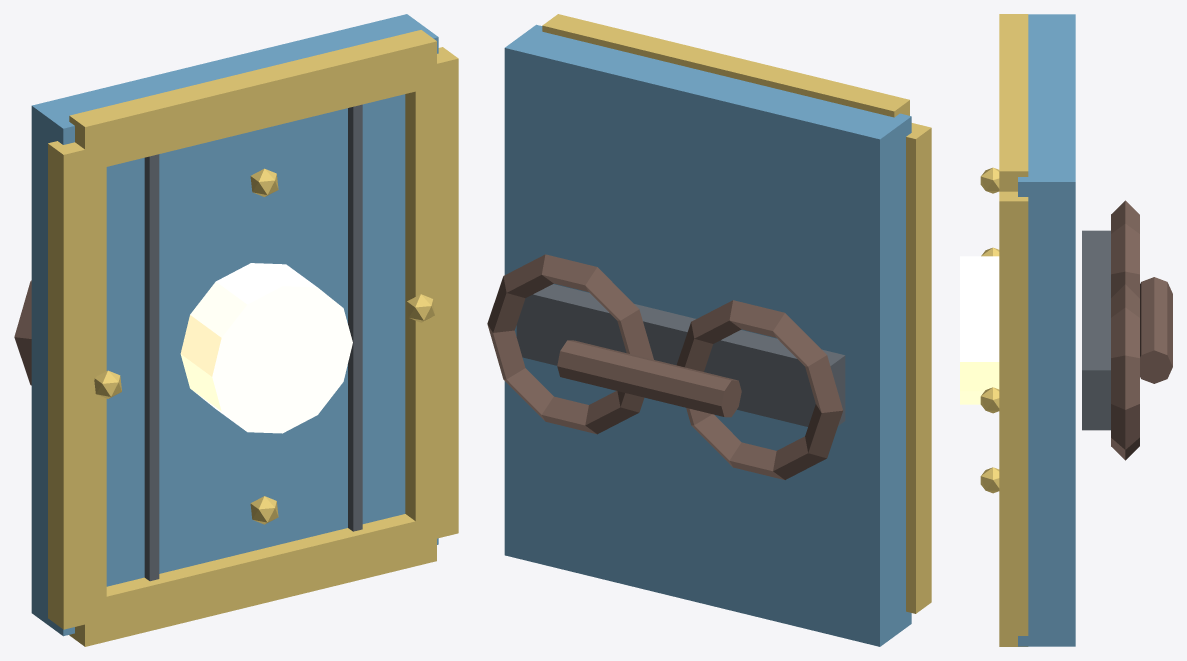
File: colored_square_shield.glb
3 views of the same model, side by side, from view 1: azimuth 30°, elevation 25°; view 2: azimuth 150°, elevation 25°; view 3: azimuth 270°, elevation 25° (orthographic). The views are drawn at different scales.
Visible parts, largest first — view 1: ShieldBody.007, EdgeBandX_-0.001, EdgeBandX_0.001, CentralBoss.007, EdgeBandZ_0.001, EdgeBandZ_-0.001, BoardSeam_-0.001, BoardSeam_0.001, BackStrap_-0.007, Rivet_2.010; view 2: ShieldBody.007, BackReinforcement.007, EdgeBandX_-0.001, BackStrap_0.007, BackStrap_-0.007, EdgeBandZ_0.001, HandGrip.007; view 3: ShieldBody.007, EdgeBandX_0.001, BackReinforcement.007, CentralBoss.007, EdgeBandZ_0.001, BackStrap_0.007, HandGrip.007, BackStrap_-0.007, Rivet_2.010, Rivet_3.010, Rivet_1.032.
Part boxes in pixels (x1=…): ShieldBody.007: x1=31, y1=14, x2=438, y2=636; EdgeBandX_-0.001: x1=48, y1=141, x2=106, y2=629; EdgeBandX_0.001: x1=405, y1=47, x2=458, y2=543; CentralBoss.007: x1=180, y1=263, x2=352, y2=433; EdgeBandZ_0.001: x1=69, y1=30, x2=436, y2=171; EdgeBandZ_-0.001: x1=69, y1=514, x2=436, y2=646; BoardSeam_-0.001: x1=144, y1=154, x2=159, y2=581; BoardSeam_0.001: x1=348, y1=104, x2=362, y2=531; BackStrap_-0.007: x1=14, y1=280, x2=31, y2=385; Rivet_2.010: x1=250, y1=496, x2=278, y2=524; ShieldBody.007: x1=504, y1=24, x2=911, y2=646; BackReinforcement.007: x1=516, y1=284, x2=845, y2=426; EdgeBandX_-0.001: x1=906, y1=123, x2=931, y2=613; BackStrap_0.007: x1=487, y1=254, x2=653, y2=434; BackStrap_-0.007: x1=676, y1=300, x2=843, y2=479; EdgeBandZ_0.001: x1=542, y1=14, x2=909, y2=117; HandGrip.007: x1=557, y1=340, x2=741, y2=417; ShieldBody.007: x1=1018, y1=14, x2=1075, y2=646; EdgeBandX_0.001: x1=999, y1=191, x2=1028, y2=635; BackReinforcement.007: x1=1082, y1=230, x2=1110, y2=430; CentralBoss.007: x1=960, y1=256, x2=999, y2=404; EdgeBandZ_0.001: x1=999, y1=14, x2=1028, y2=191; BackStrap_0.007: x1=1111, y1=284, x2=1139, y2=460; HandGrip.007: x1=1140, y1=277, x2=1172, y2=383; BackStrap_-0.007: x1=1111, y1=200, x2=1139, y2=298; Rivet_2.010: x1=980, y1=467, x2=999, y2=493; Rivet_3.010: x1=980, y1=167, x2=999, y2=193; Rivet_1.032: x1=980, y1=387, x2=999, y2=413.
Size of the model in its own units: 1.01 by 1.27 by 0.515.
